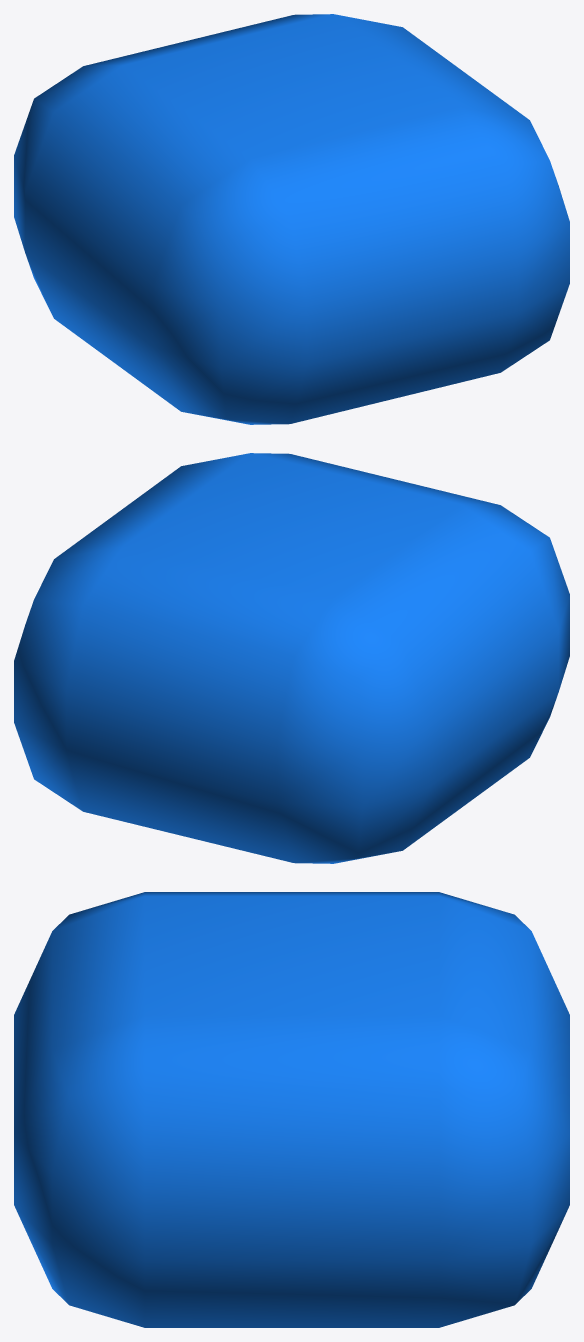
The model's file is Candy_02.fbx.
3 renders of one model, top to bottom at view 1: azimuth 30°, elevation 25°; view 2: azimuth 150°, elevation 25°; view 3: azimuth 270°, elevation 25°, orthographic. The views are drawn at different scales.
Visible parts, largest first — view 1: Blue_pillow; view 2: Blue_pillow; view 3: Blue_pillow.
Boxes of the visible parts, box(x1,y1,x2,y2) form: Blue_pillow: box(14, 14, 569, 424); Blue_pillow: box(14, 453, 569, 863); Blue_pillow: box(14, 892, 569, 1327).
Size of the model in its own units: 83 by 52 by 85.
